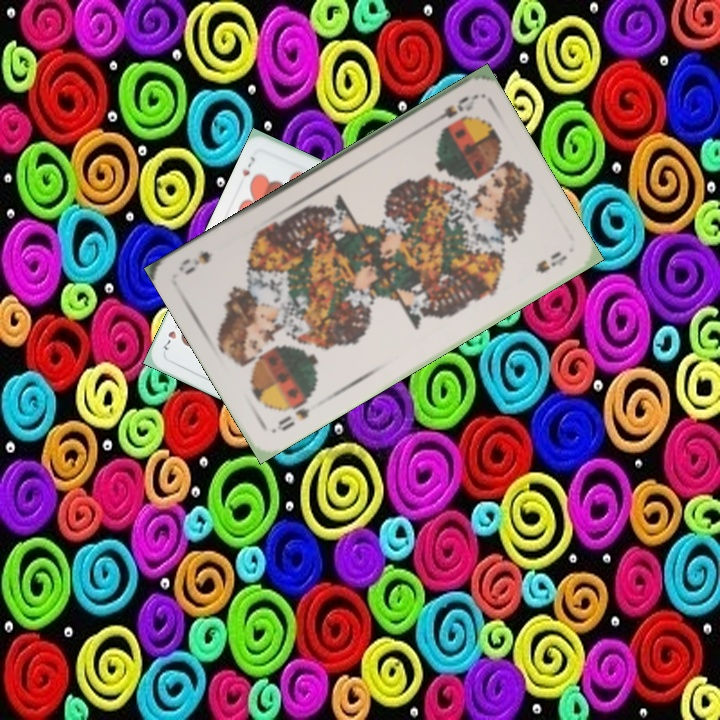H7: (238, 152, 257, 179)
SO: (424, 91, 478, 129), (268, 396, 313, 435)
